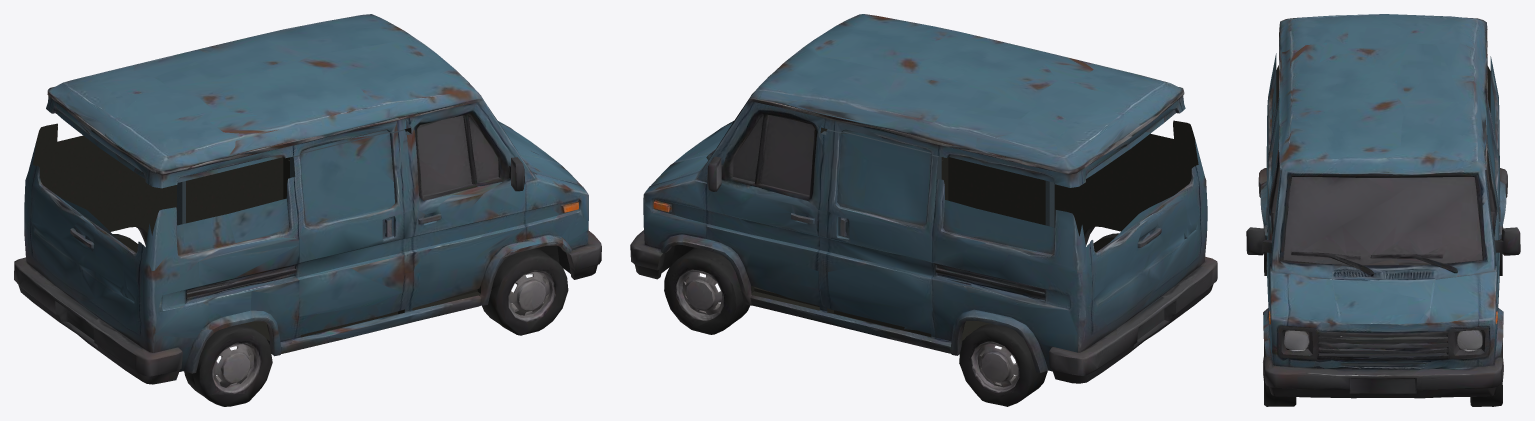
Rendered from van.glb.
3 views of the same model, side by side, from view 1: azimuth 30°, elevation 25°; view 2: azimuth 150°, elevation 25°; view 3: azimuth 270°, elevation 25° (orthographic). The views are drawn at different scales.
Visible parts, largest first — view 1: body, door_slide_front, door_front_1, door_rear_l, door_rear_r, door_slide_back; view 2: body, door_slide_back, door_back_1, door_rear_r, door_rear_l, door_slide_front; view 3: body, door_slide_back, door_back_1, door_front_1, door_slide_front.
Boxes of the visible parts, x1,y1,x2,y2 form: body: (14,14,601,406); door_slide_front: (290,129,412,349); door_front_1: (405,115,492,320); door_rear_l: (74,212,146,372); door_rear_r: (19,164,89,329); door_slide_back: (177,157,289,225); body: (630,14,1217,406); door_slide_back: (820,129,941,349); door_back_1: (739,115,826,320); door_rear_r: (1085,212,1156,371); door_rear_l: (1142,164,1211,328); door_slide_front: (941,157,1054,227); body: (1246,14,1520,406); door_slide_back: (1487,98,1500,266); door_back_1: (1486,149,1502,307); door_front_1: (1264,149,1280,293); door_slide_front: (1266,97,1279,224).
Size of the model in its own units: 5 by 2.61 by 2.76.
3 materials, 3 textured.
